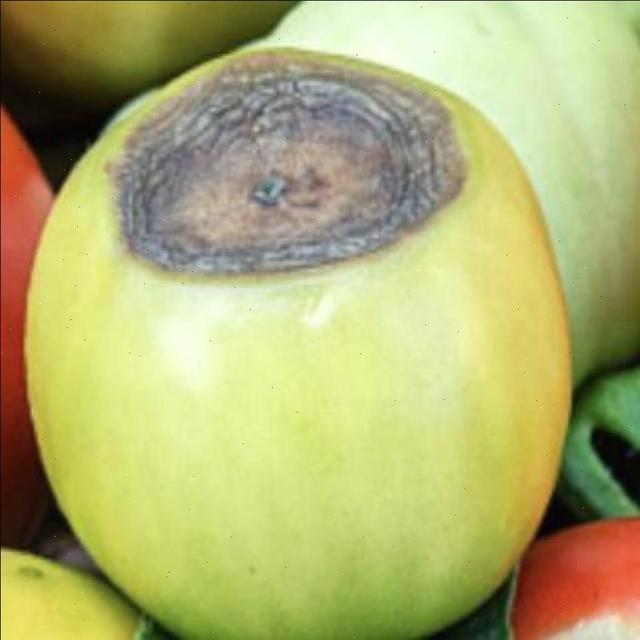Blossom End Rot Fruit: (73, 32, 314, 182)
